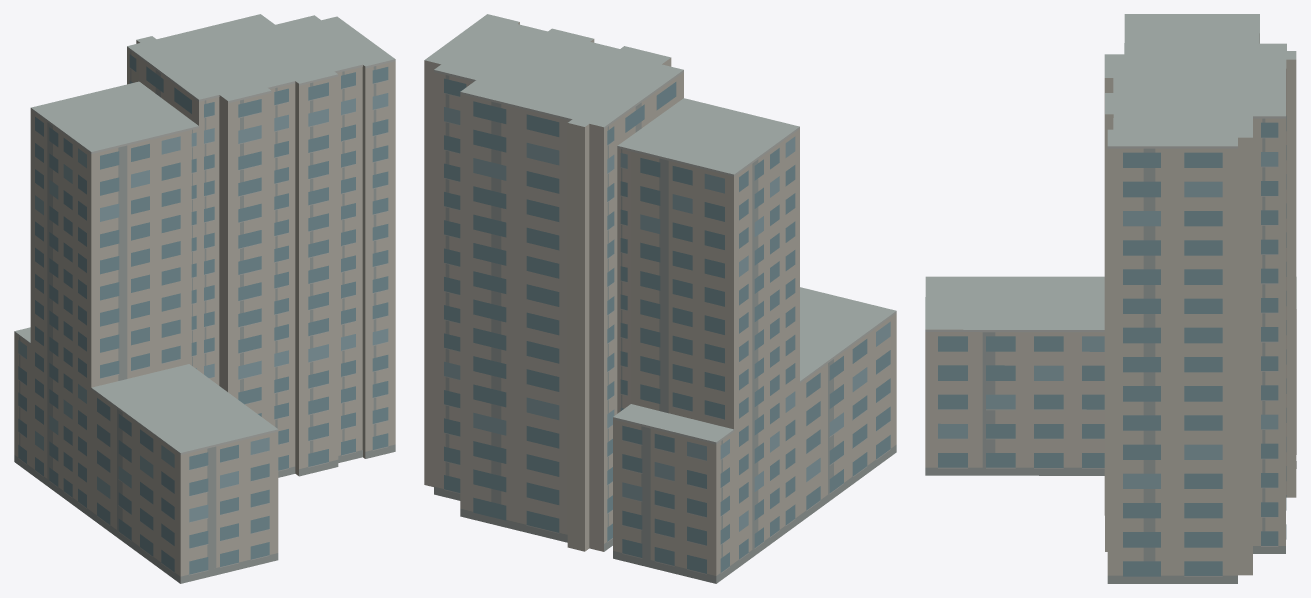
File: residential-689d18b8-d81c-48f0-92e9-390b05c128d8.glb
3 renders of one model, left to right at view 1: azimuth 30°, elevation 25°; view 2: azimuth 150°, elevation 25°; view 3: azimuth 270°, elevation 25°, orthographic. The views are drawn at different scales.
Parts seen in each view (by area): view 1: residential-689d18b8-d81c-48f0-92e9-390b05c128d8.tmp; view 2: residential-689d18b8-d81c-48f0-92e9-390b05c128d8.tmp; view 3: residential-689d18b8-d81c-48f0-92e9-390b05c128d8.tmp.
Part boxes in pixels (bbox=[...]): residential-689d18b8-d81c-48f0-92e9-390b05c128d8.tmp: bbox=[14, 14, 395, 583]; residential-689d18b8-d81c-48f0-92e9-390b05c128d8.tmp: bbox=[424, 14, 896, 583]; residential-689d18b8-d81c-48f0-92e9-390b05c128d8.tmp: bbox=[925, 14, 1296, 583].
Bounding box in the file's own units: 36.2 × 45.75 × 35.19.
